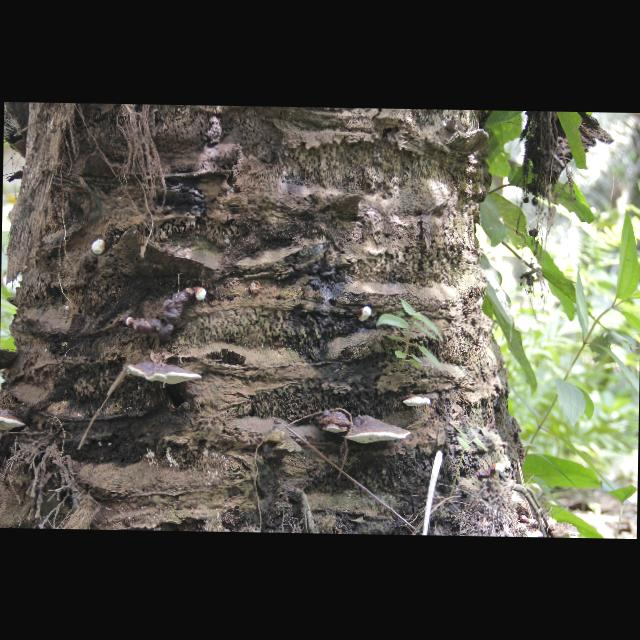ganoderma: (134, 288, 194, 345), (346, 415, 411, 445), (128, 361, 203, 386), (313, 410, 352, 434), (549, 522, 581, 540), (1, 409, 25, 431), (402, 395, 431, 408), (526, 530, 544, 539)
primordium: (477, 464, 505, 481), (357, 308, 371, 323), (93, 240, 107, 255), (195, 288, 207, 302), (127, 318, 134, 328), (66, 306, 70, 311)
